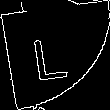L_N: (33, 28, 77, 82)
